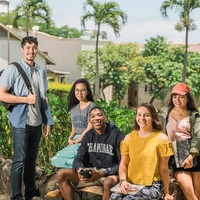Person: (1, 35, 54, 200), (56, 106, 124, 200), (111, 102, 174, 200), (159, 82, 200, 200), (55, 78, 99, 146)
